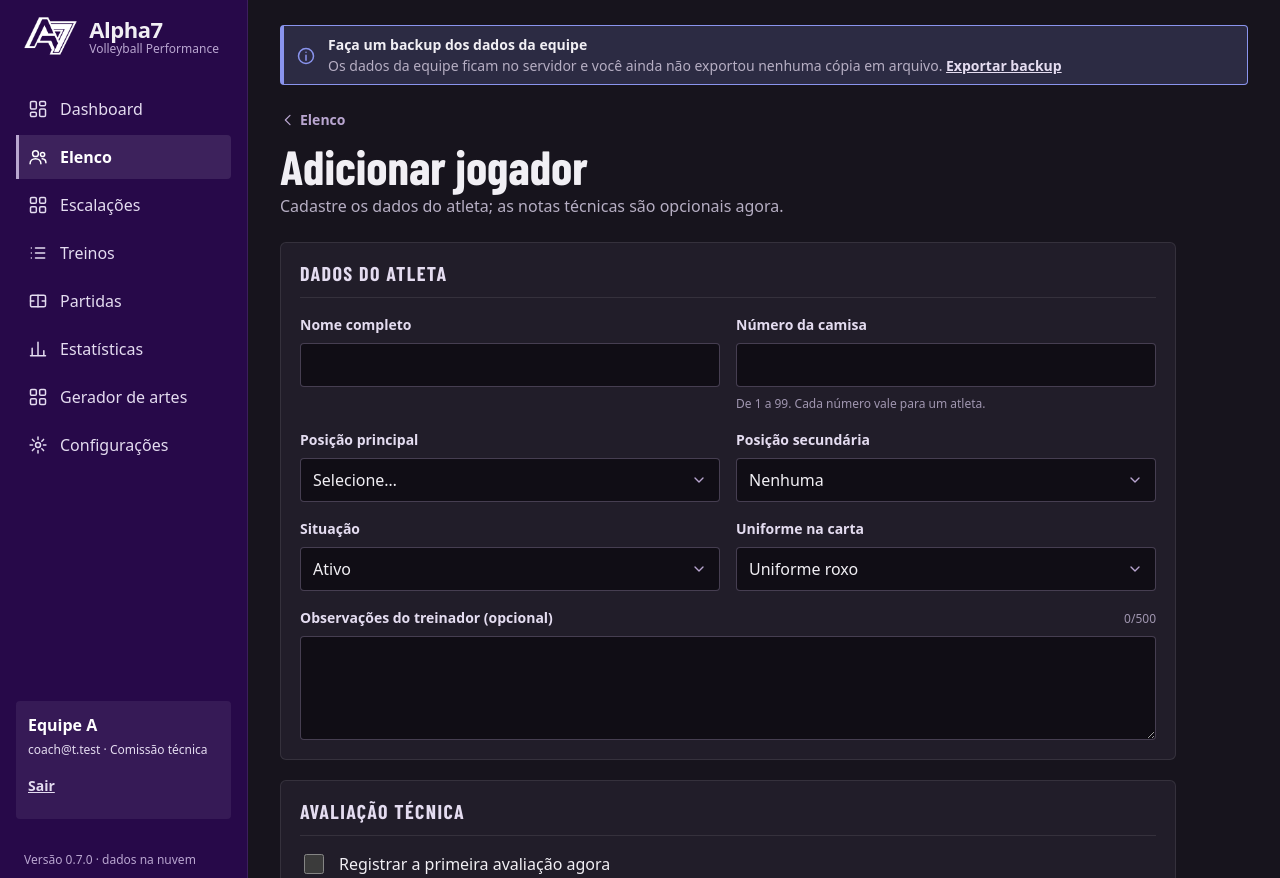
Test case: Interface com dados na nuvem › dado desatualizado: se outra pessoa já usou a camisa, o banco recusa e a tela explica
The width and height of the screenshot is (1280, 878).
Type "Rui Teixeira" into the field labelled "Nome completo" at point(510, 365), box 300,343 -> 720,387
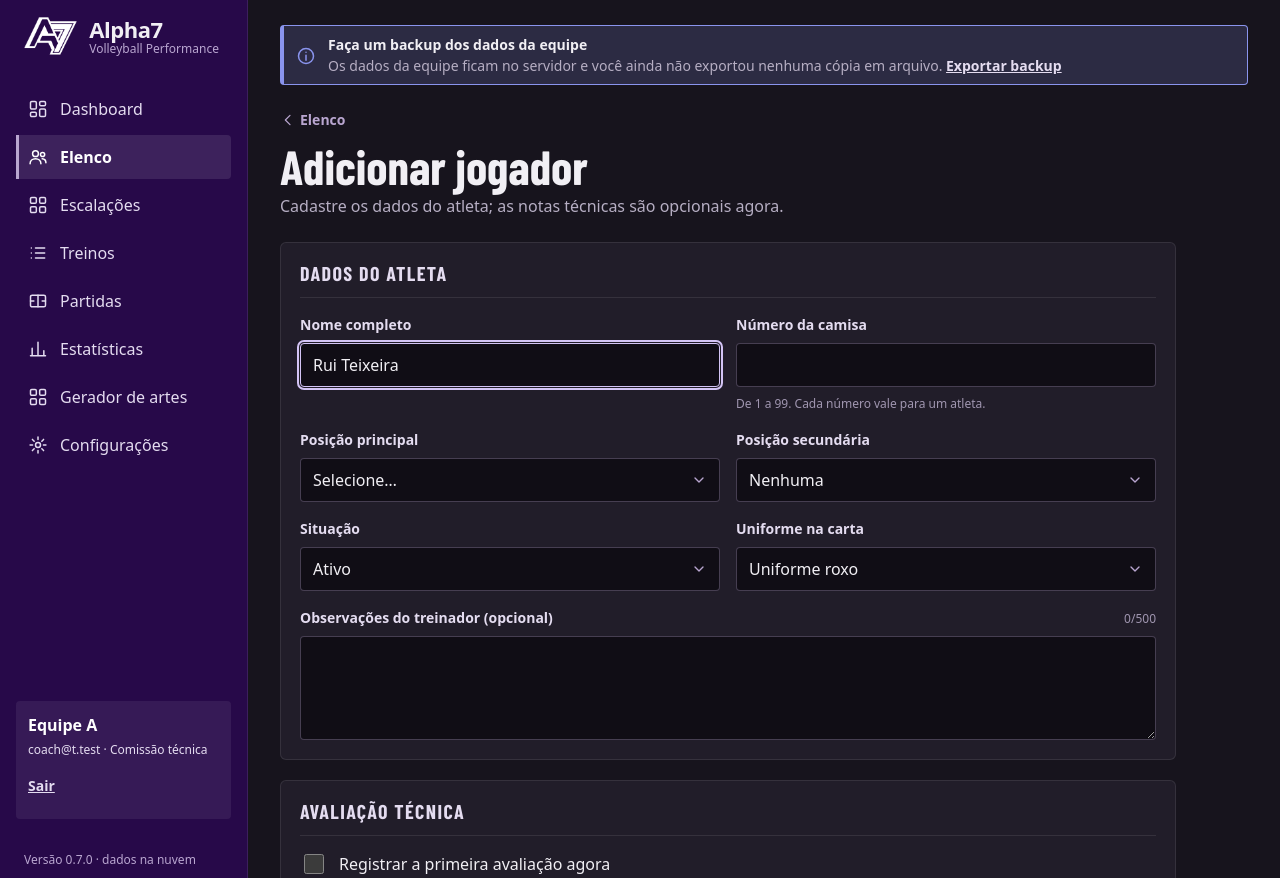
Type "40" into the field labelled "Número da camisa" at point(946, 365), box 736,343 -> 1156,387
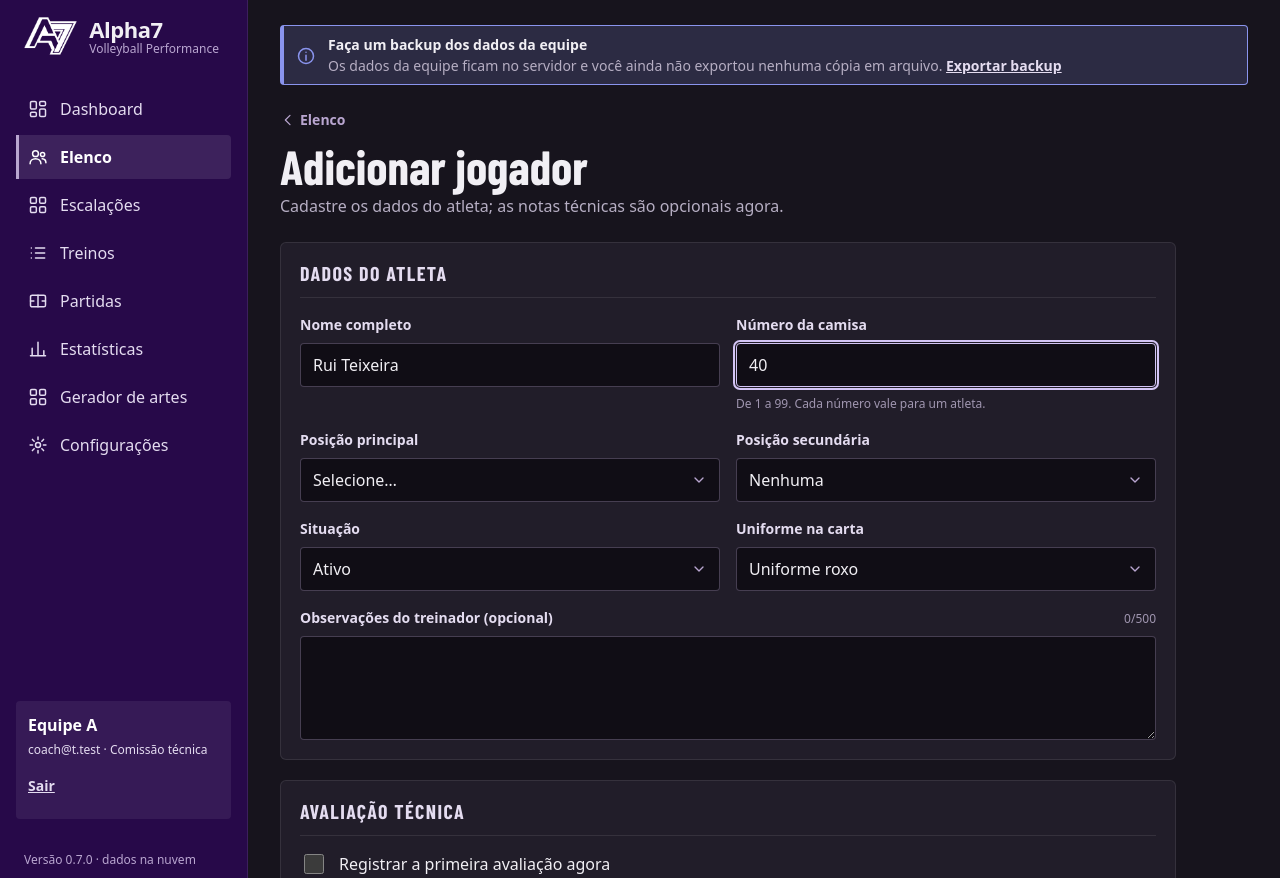
Select "Oposto" in the dropdown labelled "Posição principal" at point(510, 480), box 300,458 -> 720,502
(page scrolled)
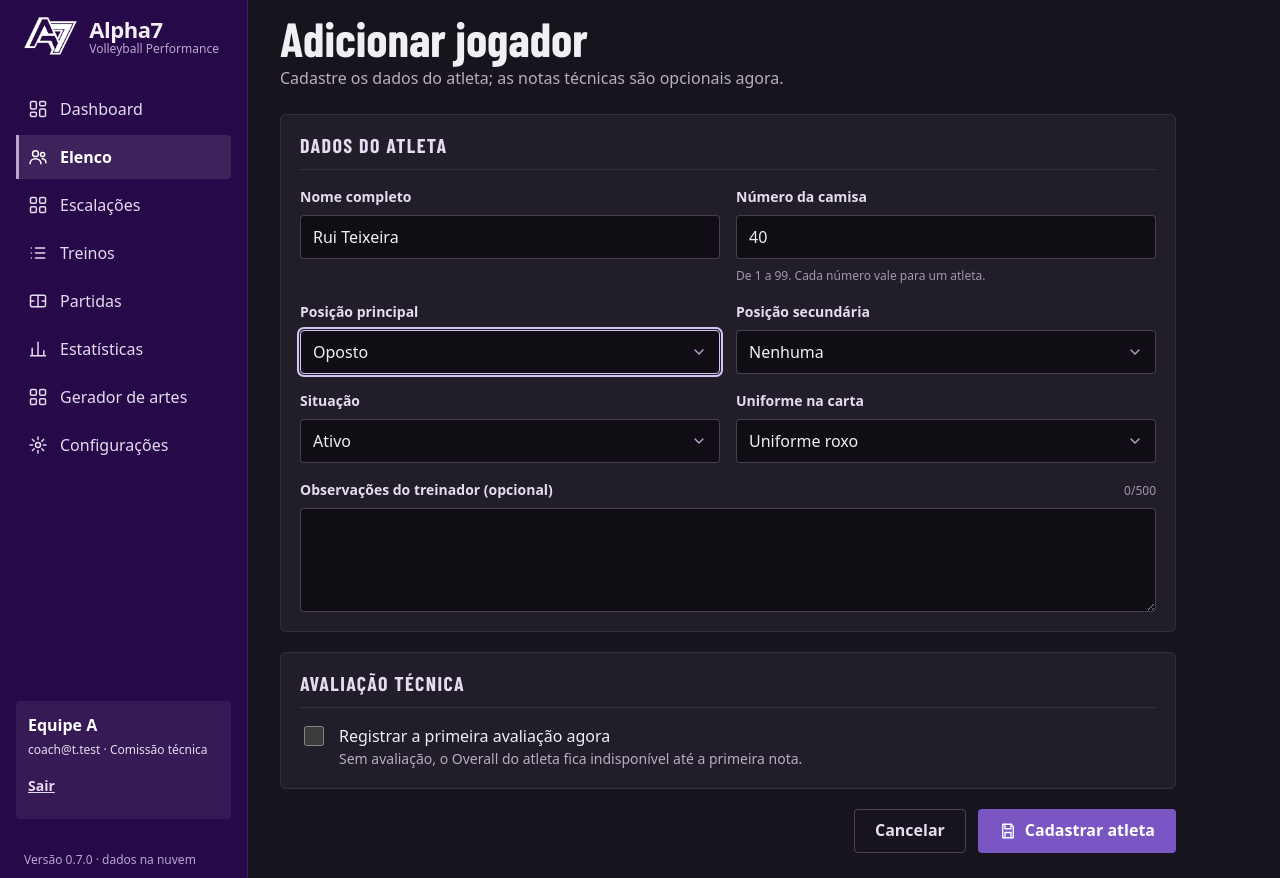
Click the button "Cadastrar atleta" at point(1077, 831), box 978,809 -> 1176,853
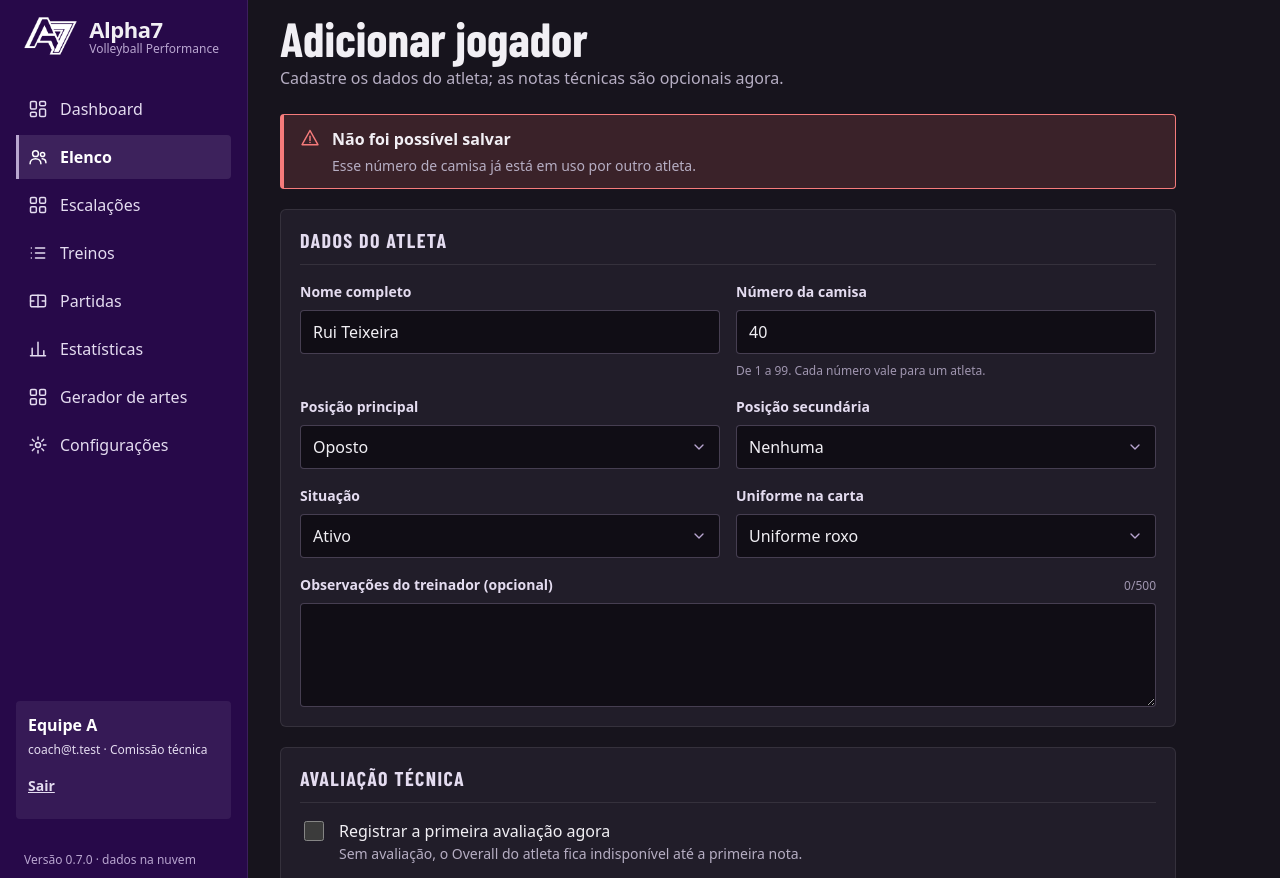
Result: the text "Esse número de camisa já está em uso por outro atleta." is shown at 332,156 -> 696,175
